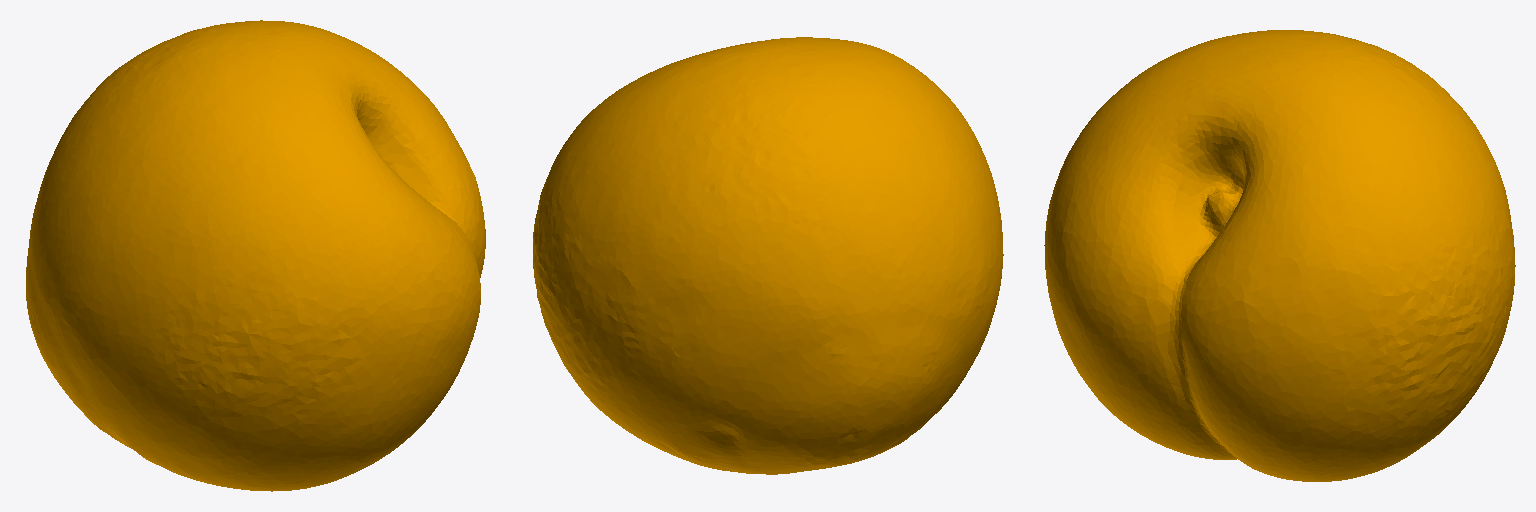
URDF robot description (peach):
<?xml version="1.0"?>
<robot name="peach">

  <link name="body">
    <collision>
        <origin xyz= "0.0 0.0 0.0" rpy="0 0 0"/>
        <geometry>
            <mesh filename="./meshes/peach.dae" scale="1 1 1"/>
        </geometry>
        <surface>
        <contact>
          <collide_without_contact>false</collide_without_contact>
        </contact>
        </surface>
    </collision>

    <visual name='visual'>
        <origin xyz= "0.0 0.0 0.0" rpy="0 0 0"/>
        <geometry>
            <mesh filename="./meshes/peach.dae" scale="1 1 1"/>
        </geometry>
    </visual>

    <inertial>
      <origin xyz= "0.0 0.0 0.0" rpy="0 0 0"/>
      <mass value="0.050"/>
      <inertia ixx="1.0" ixy="0.0" ixz="0.0" iyy="1.0" iyz="0.0" izz="1.0" />
    </inertial>
  </link>
  
</robot>
   

--- What the picture shows (computed from the rendered views, not written in the file) ---
Views: 3 orthographic renders of the robot side by side, from view 1: azimuth 30°, elevation 25°; view 2: azimuth 150°, elevation 25°; view 3: azimuth 270°, elevation 25°.
Robot: peach — 1 links, 0 joints (none); root link body; default pose: all joints at 0.
Visible links, largest first — view 1: body; view 2: body; view 3: body.
Link boxes in pixels (bbox=[...]): body: bbox=[26, 20, 485, 491]; body: bbox=[533, 37, 1003, 474]; body: bbox=[1044, 30, 1515, 481].
Bounding box of the posed robot: 0.0621 × 0.0626 × 0.0586 m (x, y, z).
Meshes: 1 distinct files referenced, 1 mesh visuals loaded (1 Collada DAE).